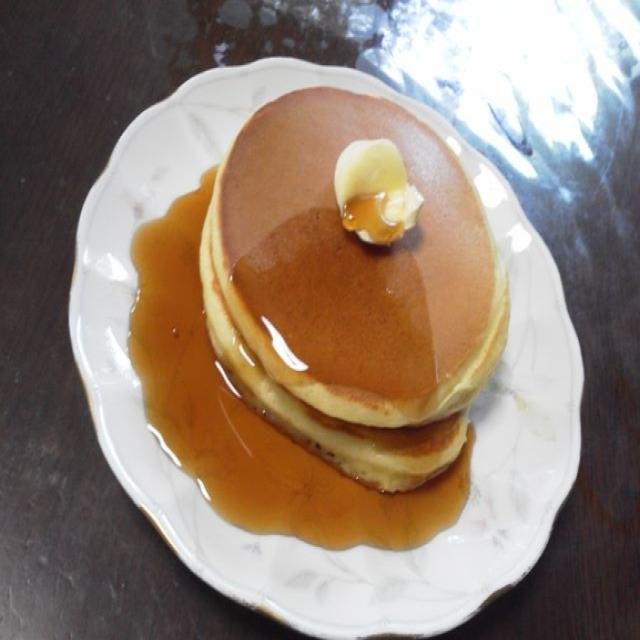蛋糕甜品: (68, 37, 589, 607)
